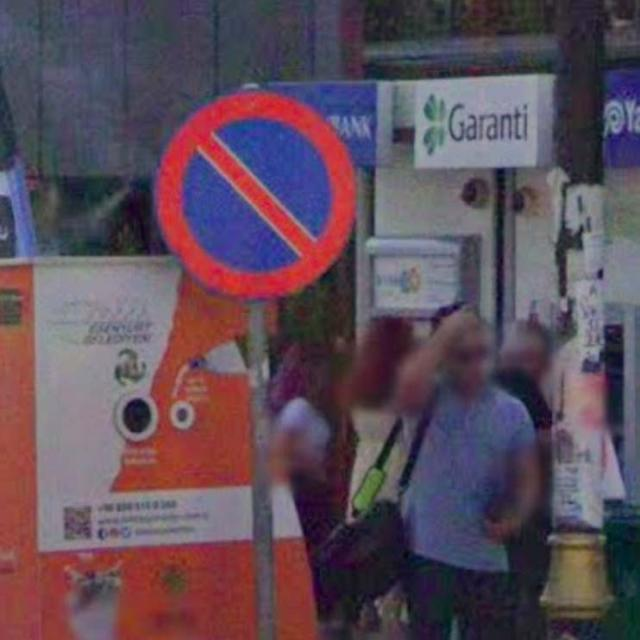parkyasak: (154, 91, 359, 298)
